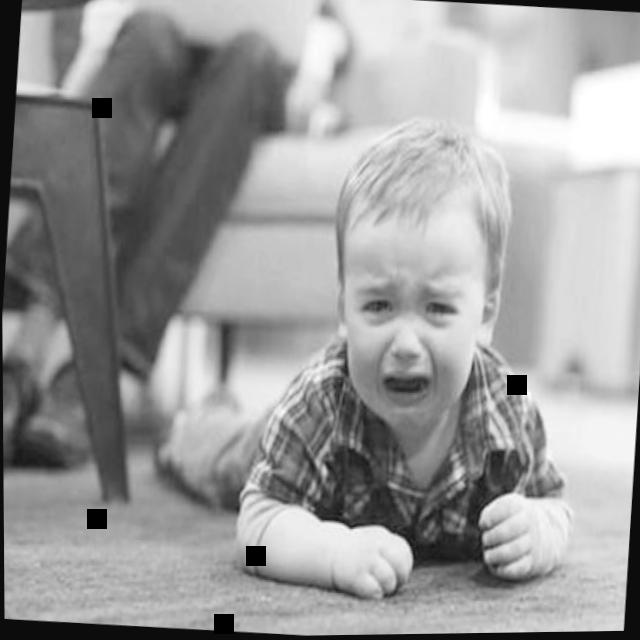Fall-Detected: (174, 58, 622, 634)
